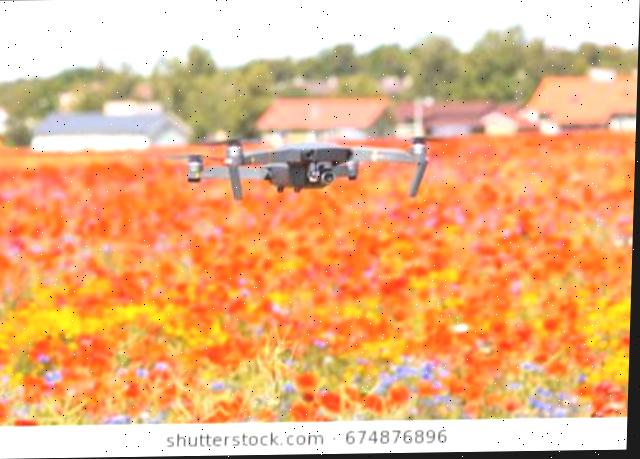drone: (138, 95, 472, 228)
